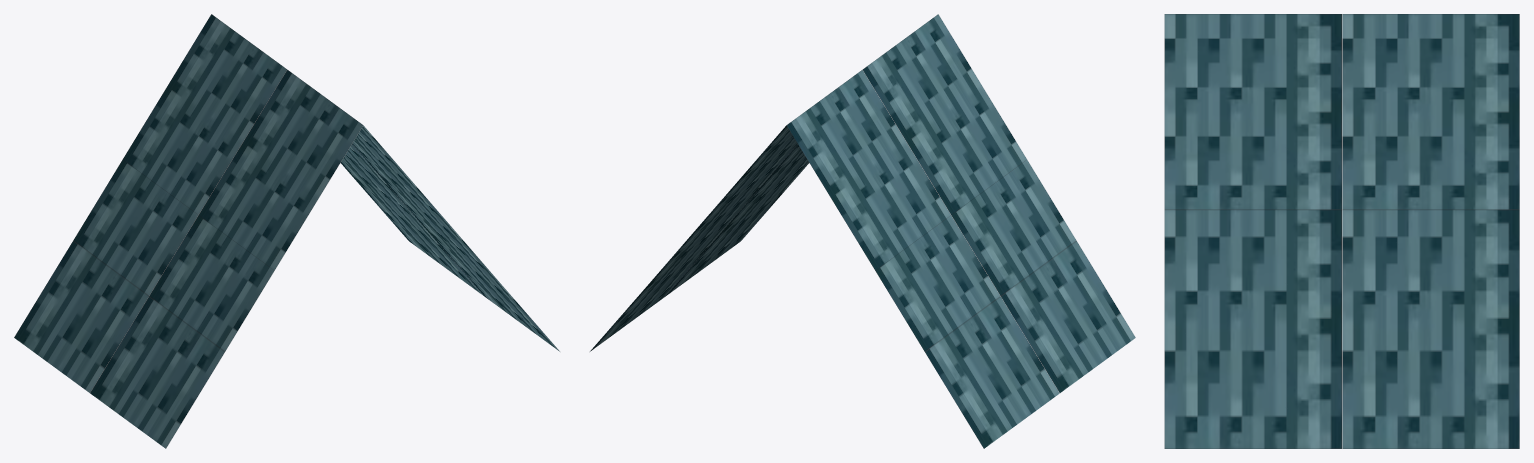
Rendered from Roof_2x3.fbx.
The picture shows the model from 3 angles, left to right: view 1: azimuth 30°, elevation 25°; view 2: azimuth 150°, elevation 25°; view 3: azimuth 270°, elevation 25°; orthographic projection. The views are drawn at different scales.
Visible parts, largest first — view 1: Roof_2x3; view 2: Roof_2x3; view 3: Roof_2x3.
Boxes of the visible parts, x1,y1,x2,y2 form: Roof_2x3: [14, 14, 559, 448]; Roof_2x3: [590, 14, 1135, 448]; Roof_2x3: [1164, 14, 1519, 448].
Bounding box in the file's own units: 200 × 300 × 200.
